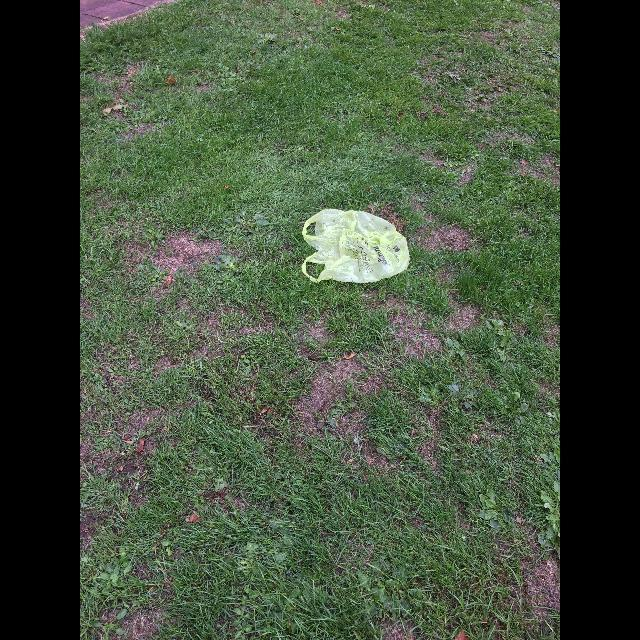Plastic: (300, 210, 408, 282)
